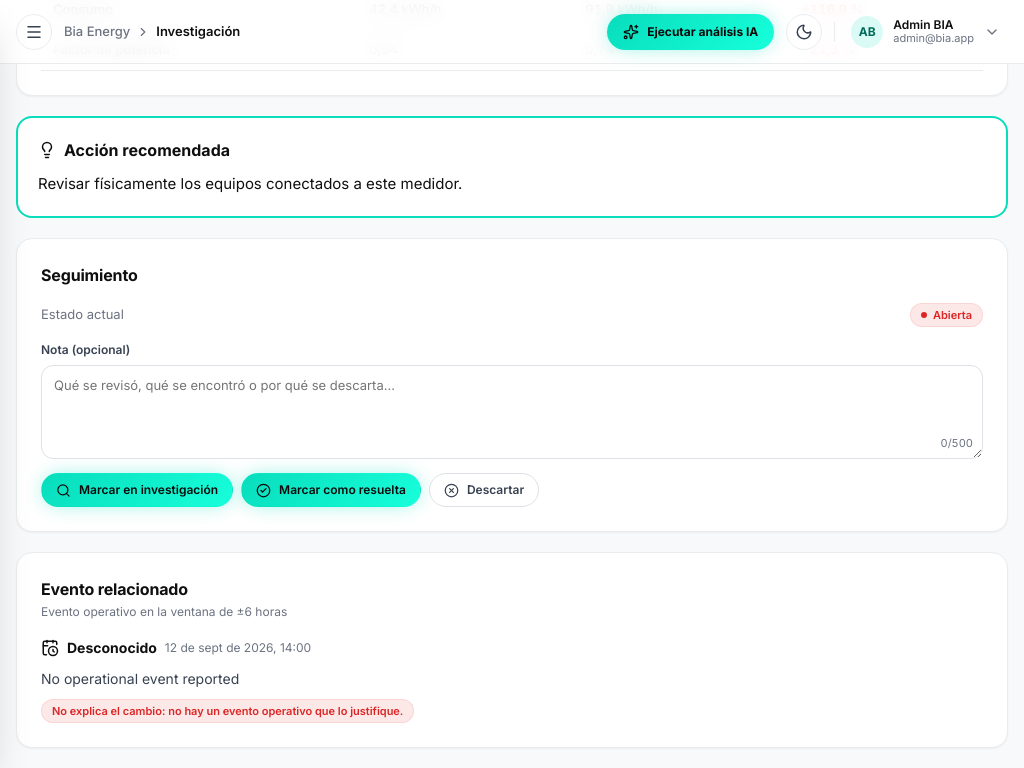
Test case: AnomalyDetailPage › moves the anomaly to investigation with a note and shows the new status
(page scrolled)
Type "  Técnico asignado a la nave C  " into the text box labelled "Nota (opcional) 0/500" at coordinates (512, 412), box 41,365 -> 983,459
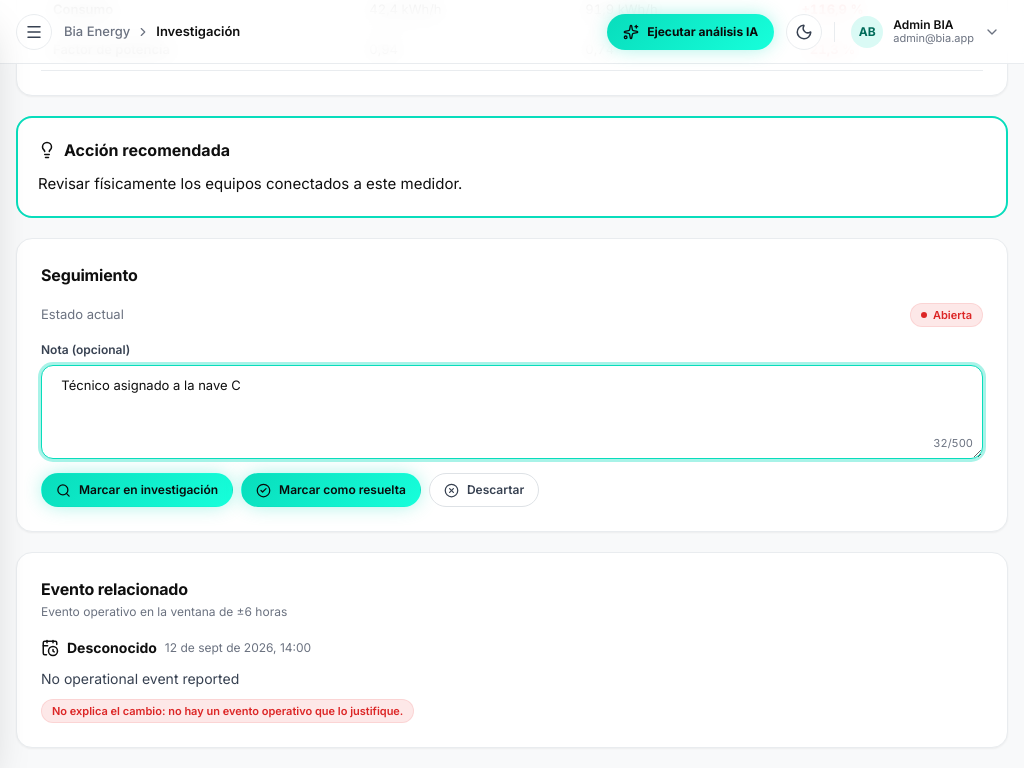
Click the button "Marcar en investigación" at coordinates (137, 490), box 41,473 -> 233,507
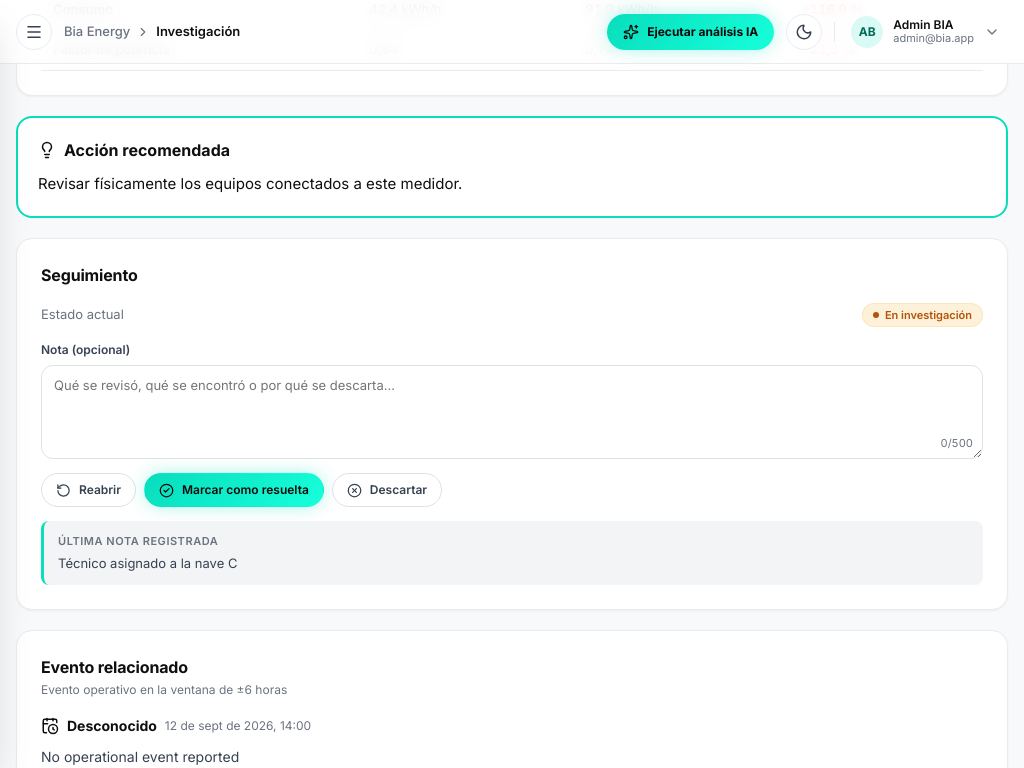
Check: the button "Reabrir" is shown, box 41,473 -> 136,507
Check: the text "En investigación" is shown, box 862,303 -> 983,327
Check: the text "Técnico asignado a la nave C" is shown, box 58,555 -> 237,571
